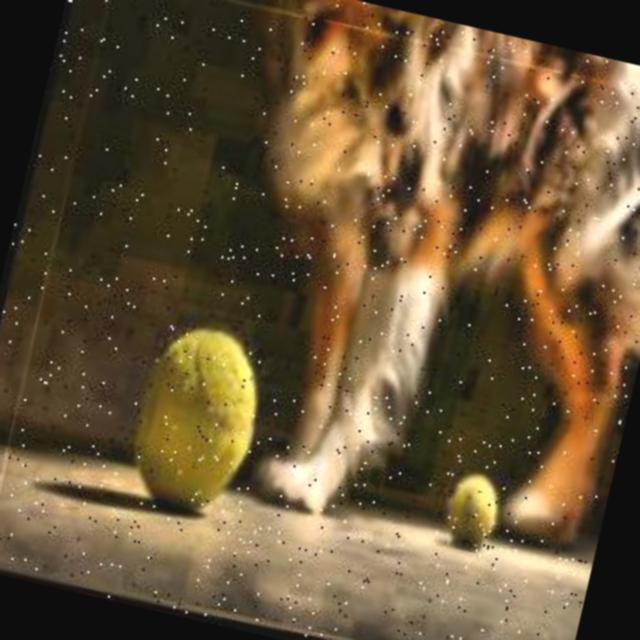tennis-ball: (112, 312, 274, 522), (432, 467, 508, 557)
